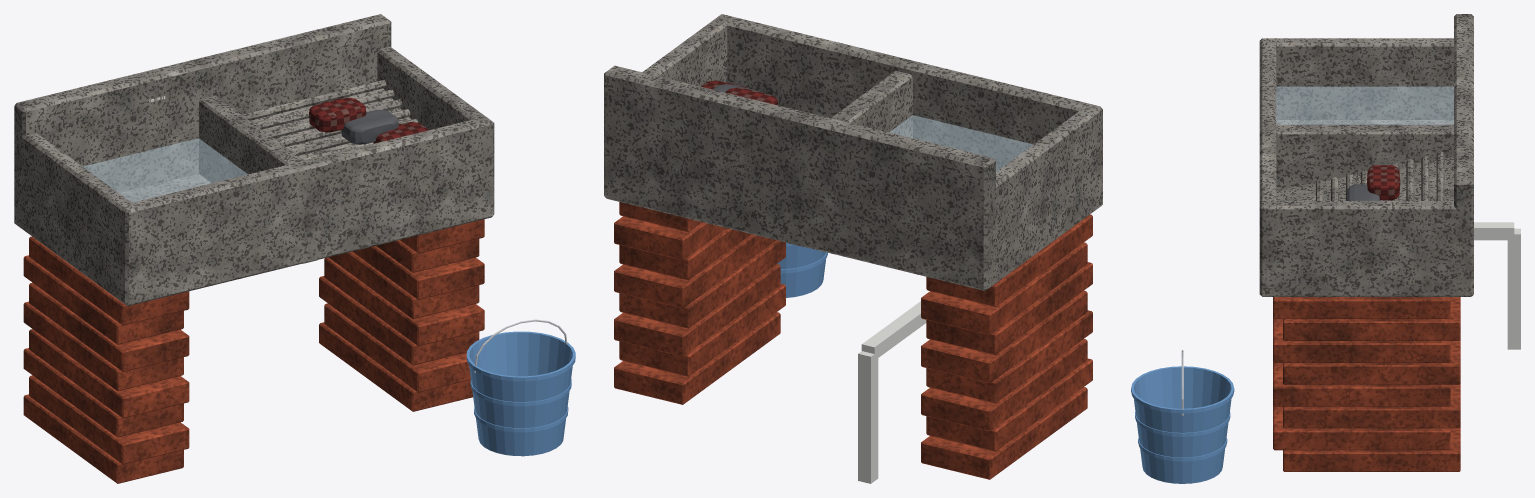
Rendered from tanque_lavar.glb.
The picture shows the model from 3 angles, left to right: view 1: azimuth 30°, elevation 25°; view 2: azimuth 150°, elevation 25°; view 3: azimuth 270°, elevation 25°; orthographic projection. The views are drawn at different scales.
Visible parts, largest first — view 1: tanque_lavar_concreto, tanque_lavar_tijolo, tanque_lavar_plastico_azul, tanque_lavar_agua, tanque_lavar_trapo_xadrez, tanque_lavar_trapo_cinza; view 2: tanque_lavar_concreto, tanque_lavar_tijolo, tanque_lavar_pvc, tanque_lavar_agua, tanque_lavar_plastico_azul, tanque_lavar_trapo_xadrez; view 3: tanque_lavar_concreto, tanque_lavar_tijolo, tanque_lavar_plastico_azul, tanque_lavar_agua, tanque_lavar_pvc, tanque_lavar_trapo_xadrez, tanque_lavar_trapo_cinza.
Part boxes in pixels (box(x1,y1,x2,y2)): tanque_lavar_concreto: box(14, 14, 494, 306); tanque_lavar_tijolo: box(23, 219, 484, 483); tanque_lavar_plastico_azul: box(466, 331, 575, 456); tanque_lavar_agua: box(83, 138, 247, 202); tanque_lavar_trapo_xadrez: box(309, 97, 428, 143); tanque_lavar_trapo_cinza: box(341, 109, 398, 144); tanque_lavar_concreto: box(604, 14, 1102, 290); tanque_lavar_tijolo: box(614, 202, 1092, 479); tanque_lavar_pvc: box(858, 301, 926, 483); tanque_lavar_agua: box(889, 115, 1033, 171); tanque_lavar_plastico_azul: box(777, 242, 827, 297); tanque_lavar_trapo_xadrez: box(701, 80, 777, 105); tanque_lavar_concreto: box(1259, 14, 1473, 296); tanque_lavar_tijolo: box(1273, 297, 1460, 471); tanque_lavar_plastico_azul: box(1131, 366, 1234, 483); tanque_lavar_agua: box(1276, 86, 1453, 124); tanque_lavar_pvc: box(1474, 222, 1520, 349); tanque_lavar_trapo_xadrez: box(1367, 165, 1400, 200); tanque_lavar_trapo_cinza: box(1347, 184, 1380, 200).
Bounding box in the file's own units: 1.3 × 0.96 × 1.16.
Materials: 9 (4 with a texture image).
